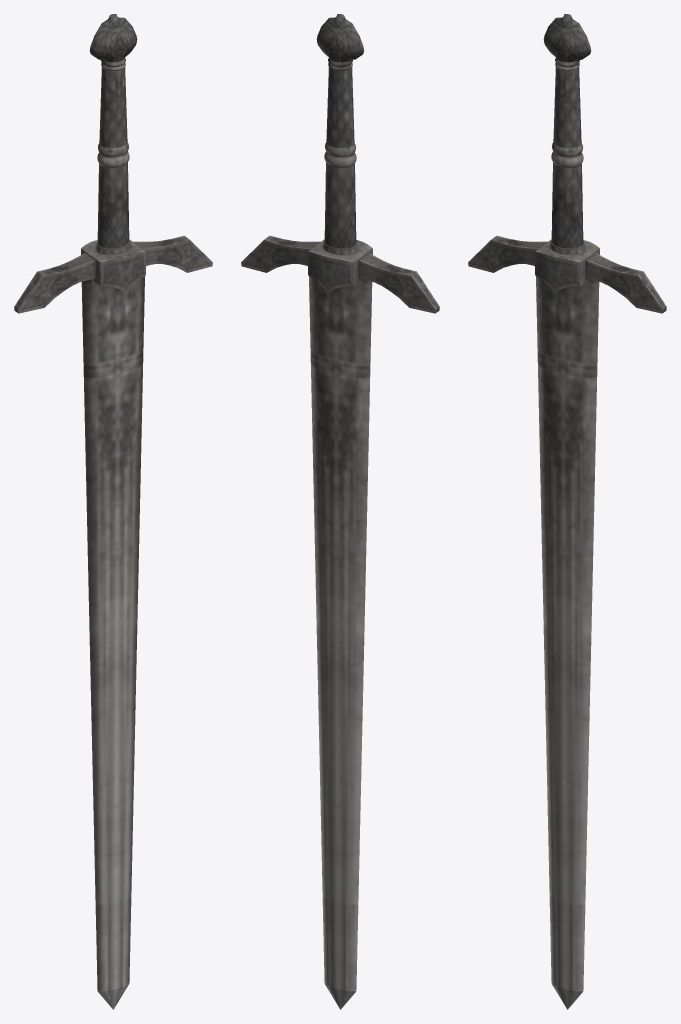
The model's file is weapon-wp_a_0203.glb.
The picture shows the model from 3 angles, left to right: view 1: azimuth 30°, elevation 25°; view 2: azimuth 150°, elevation 25°; view 3: azimuth 330°, elevation 25°; orthographic projection.
Parts seen in each view (by area): view 1: wp_a_0203_mesh; view 2: wp_a_0203_mesh; view 3: wp_a_0203_mesh.
Boxes of the visible parts, x1,y1,x2,y2 form: wp_a_0203_mesh: (14, 14, 212, 1009); wp_a_0203_mesh: (241, 14, 439, 1009); wp_a_0203_mesh: (468, 14, 666, 1009).
Size of the model in its own units: 0.314 by 1.53 by 0.0697.
Materials: 1 (1 with a texture image).
